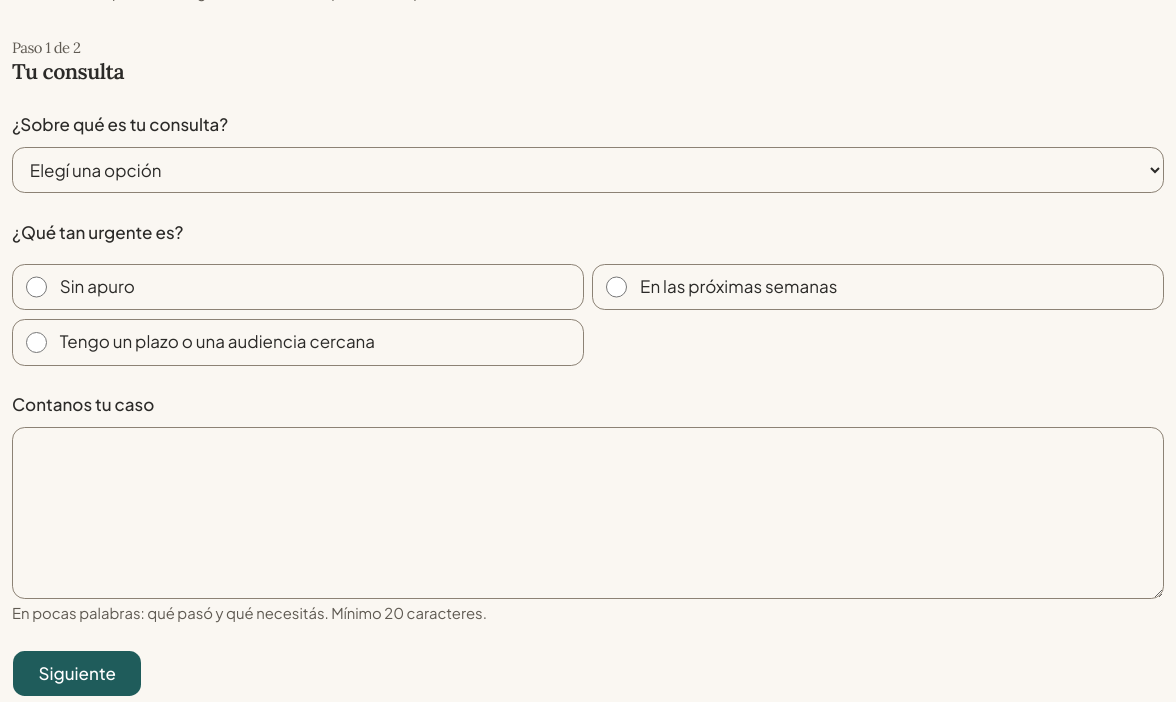
Test: InquiryForm (US-03) › sending › does not send when step 2 is invalid, and shows its errors
Select "Divorcio" in the dropdown labelled "¿Sobre qué es tu consulta?": (588, 170) [12, 147, 1164, 194]
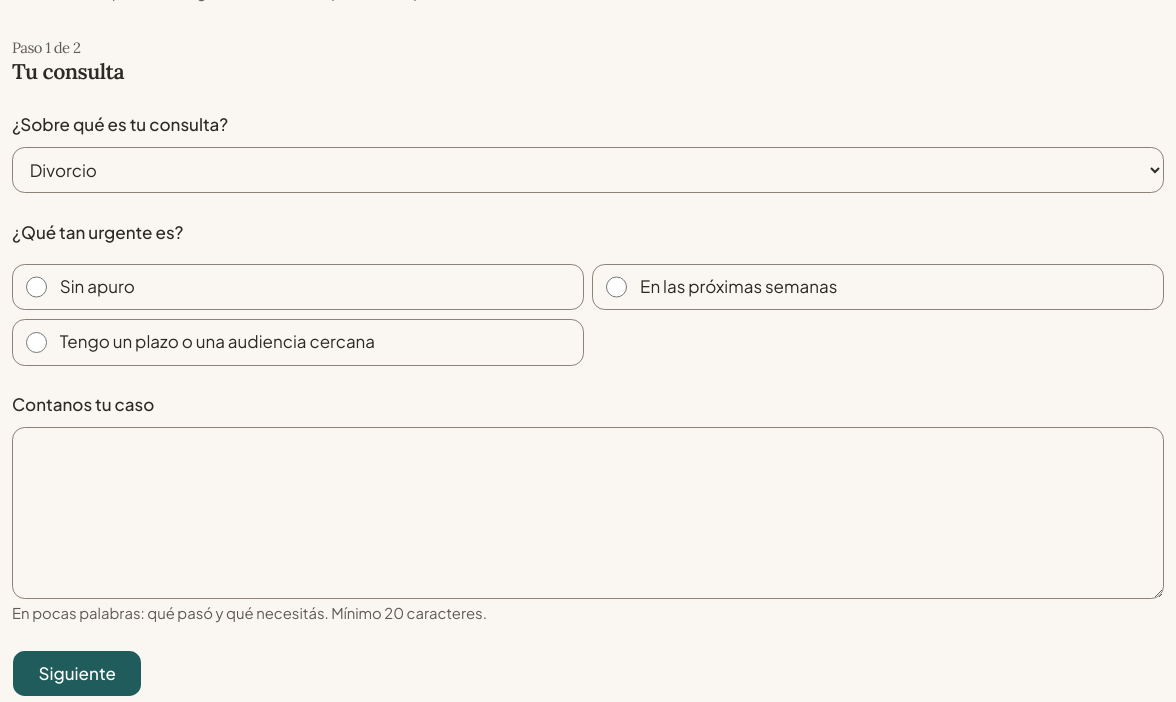
Click the radio button labelled "En las próximas semanas": (617, 287) [606, 276, 627, 298]
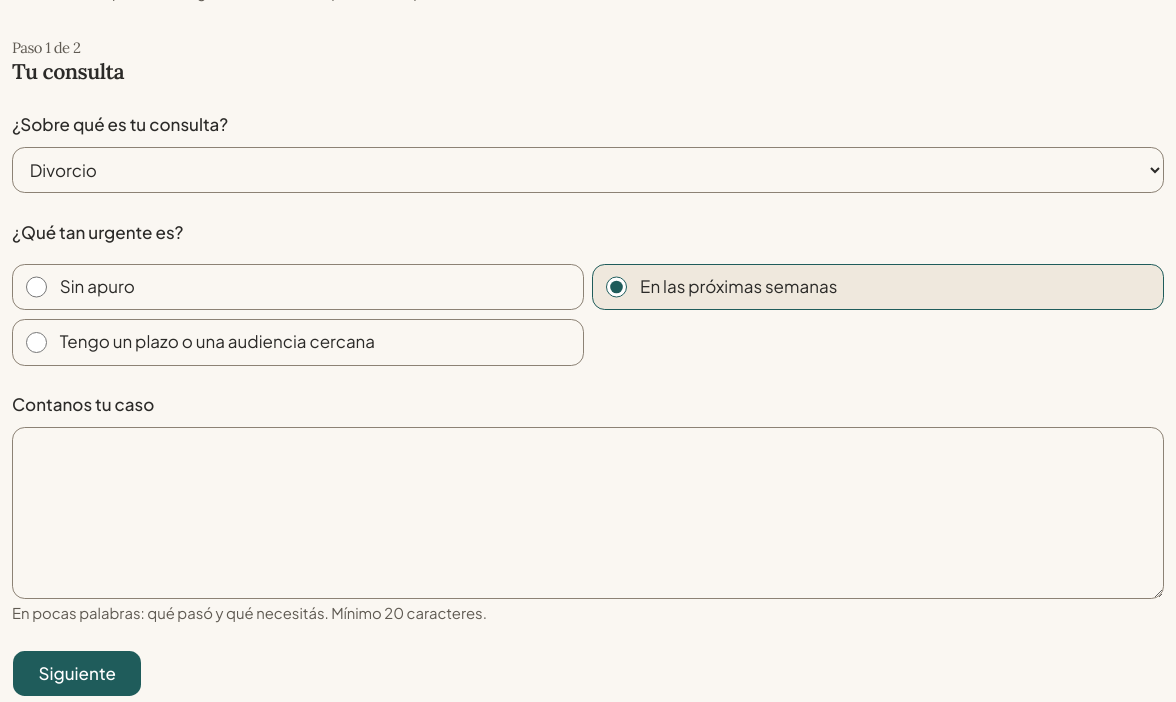
In the text box labelled "Contanos tu caso": (588, 513) [12, 427, 1164, 599], type "Nos estamos separando y queremos acordar el cuidado de los chicos."
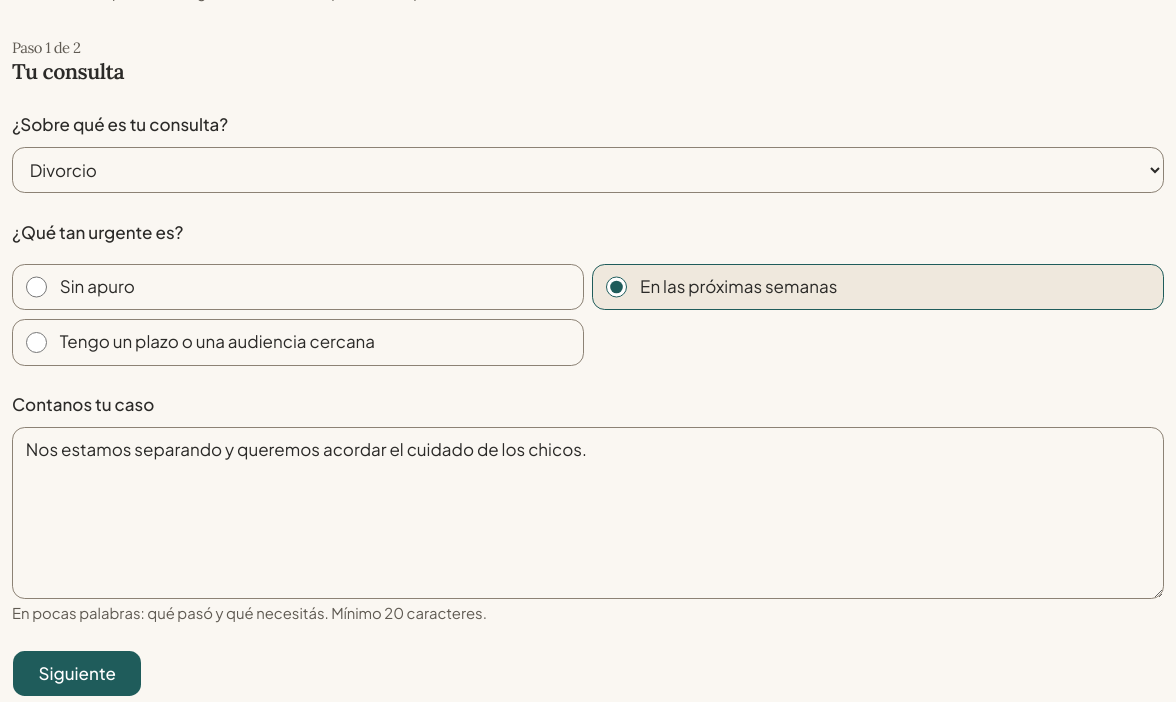
Click the button "Siguiente": (77, 674) [12, 650, 142, 697]
(page scrolled)
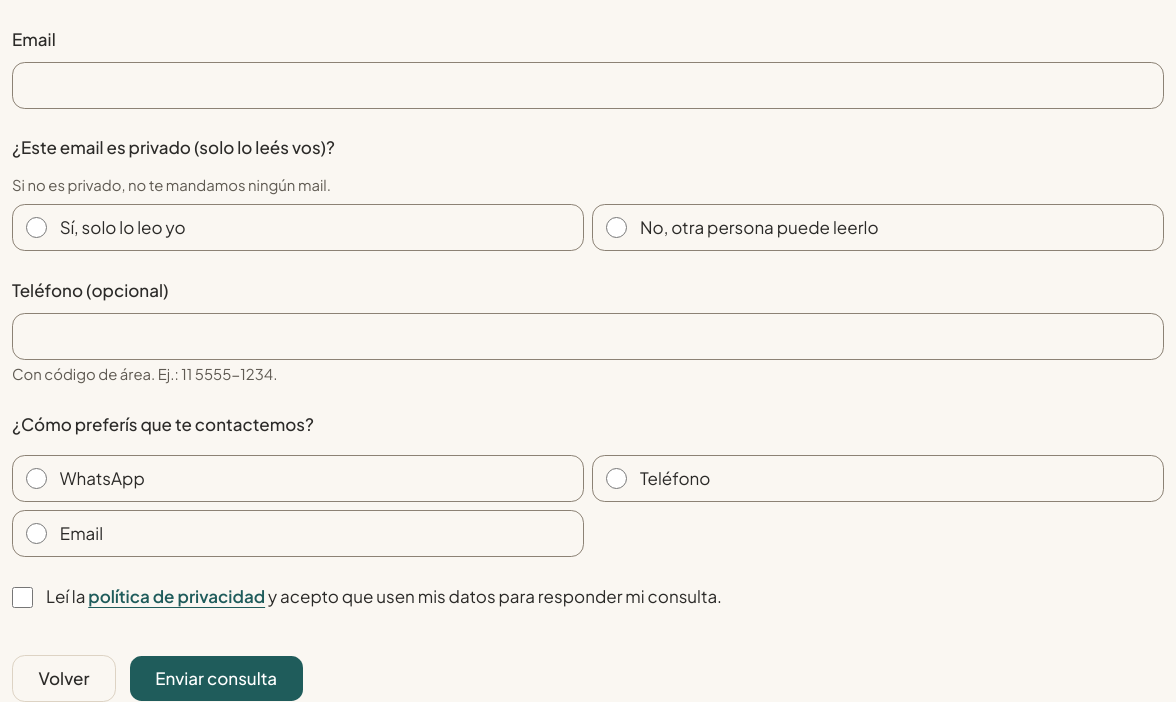
Click the button "Enviar consulta": (216, 678) [129, 655, 304, 701]
(page scrolled)
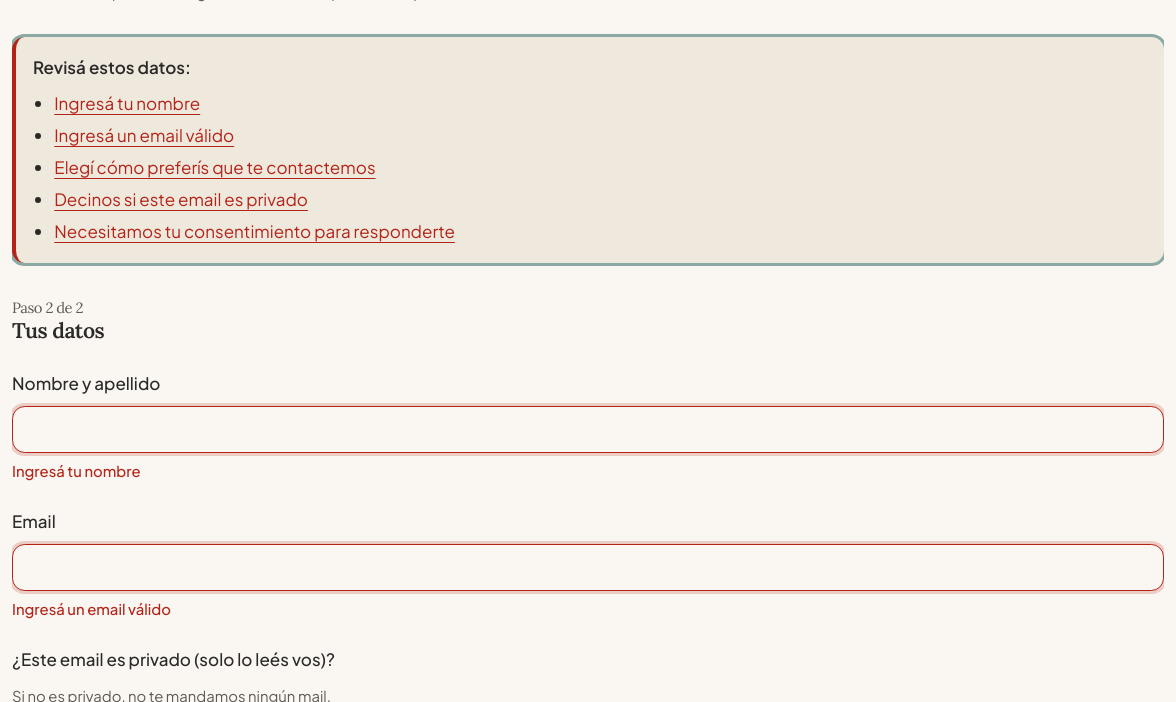
Now the message shows "Ingresá tu nombre", box [54, 92, 200, 114]
Now the message shows "Decinos si este email es privado", box [54, 188, 308, 210]
Now the message shows "Necesitamos tu consentimiento para responderte", box [54, 220, 455, 242]
